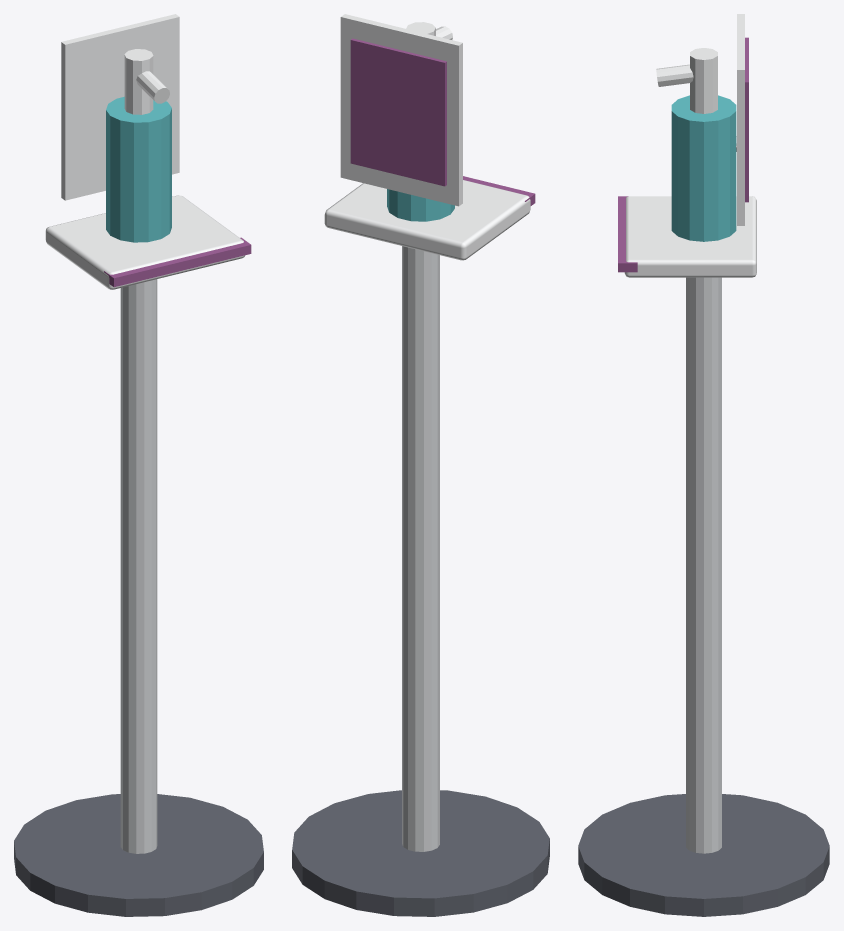
File: pharmacy-and-high-street-chemist-hand-sanitiser-stand-c1bb6fae__37503.glb
3 renders of one model, left to right at view 1: azimuth 30°, elevation 25°; view 2: azimuth 150°, elevation 25°; view 3: azimuth 270°, elevation 25°, orthographic. The views are drawn at different scales.
Parts seen in each view (by area): view 1: hand-sanitiser-stand; view 2: hand-sanitiser-stand; view 3: hand-sanitiser-stand.
Boxes of the visible parts, x1,y1,x2,y2 form: hand-sanitiser-stand: [14, 14, 263, 916]; hand-sanitiser-stand: [292, 14, 549, 916]; hand-sanitiser-stand: [578, 14, 829, 916].
Bounding box in the file's own units: 0.38 × 1.37 × 0.38.
